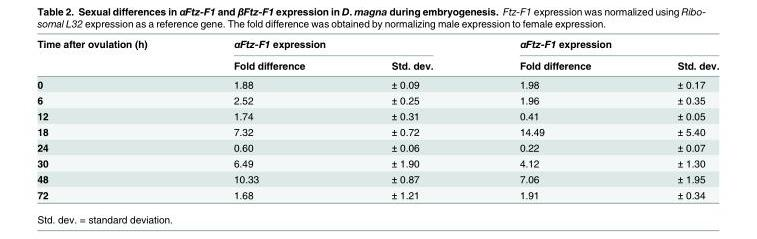table: (36, 37, 718, 200)
table column: (189, 37, 347, 200), (475, 37, 633, 200), (36, 37, 189, 200), (347, 37, 475, 200), (633, 37, 718, 200)
table column header: (36, 37, 718, 74)
table row: (36, 54, 718, 74), (36, 37, 718, 54), (36, 74, 718, 91), (36, 91, 718, 107), (36, 107, 718, 123), (36, 123, 718, 139), (36, 154, 718, 170), (36, 170, 718, 186), (36, 139, 718, 154), (36, 186, 718, 200)
table spanning cell: (36, 37, 189, 74), (189, 37, 475, 54), (475, 37, 718, 54)
